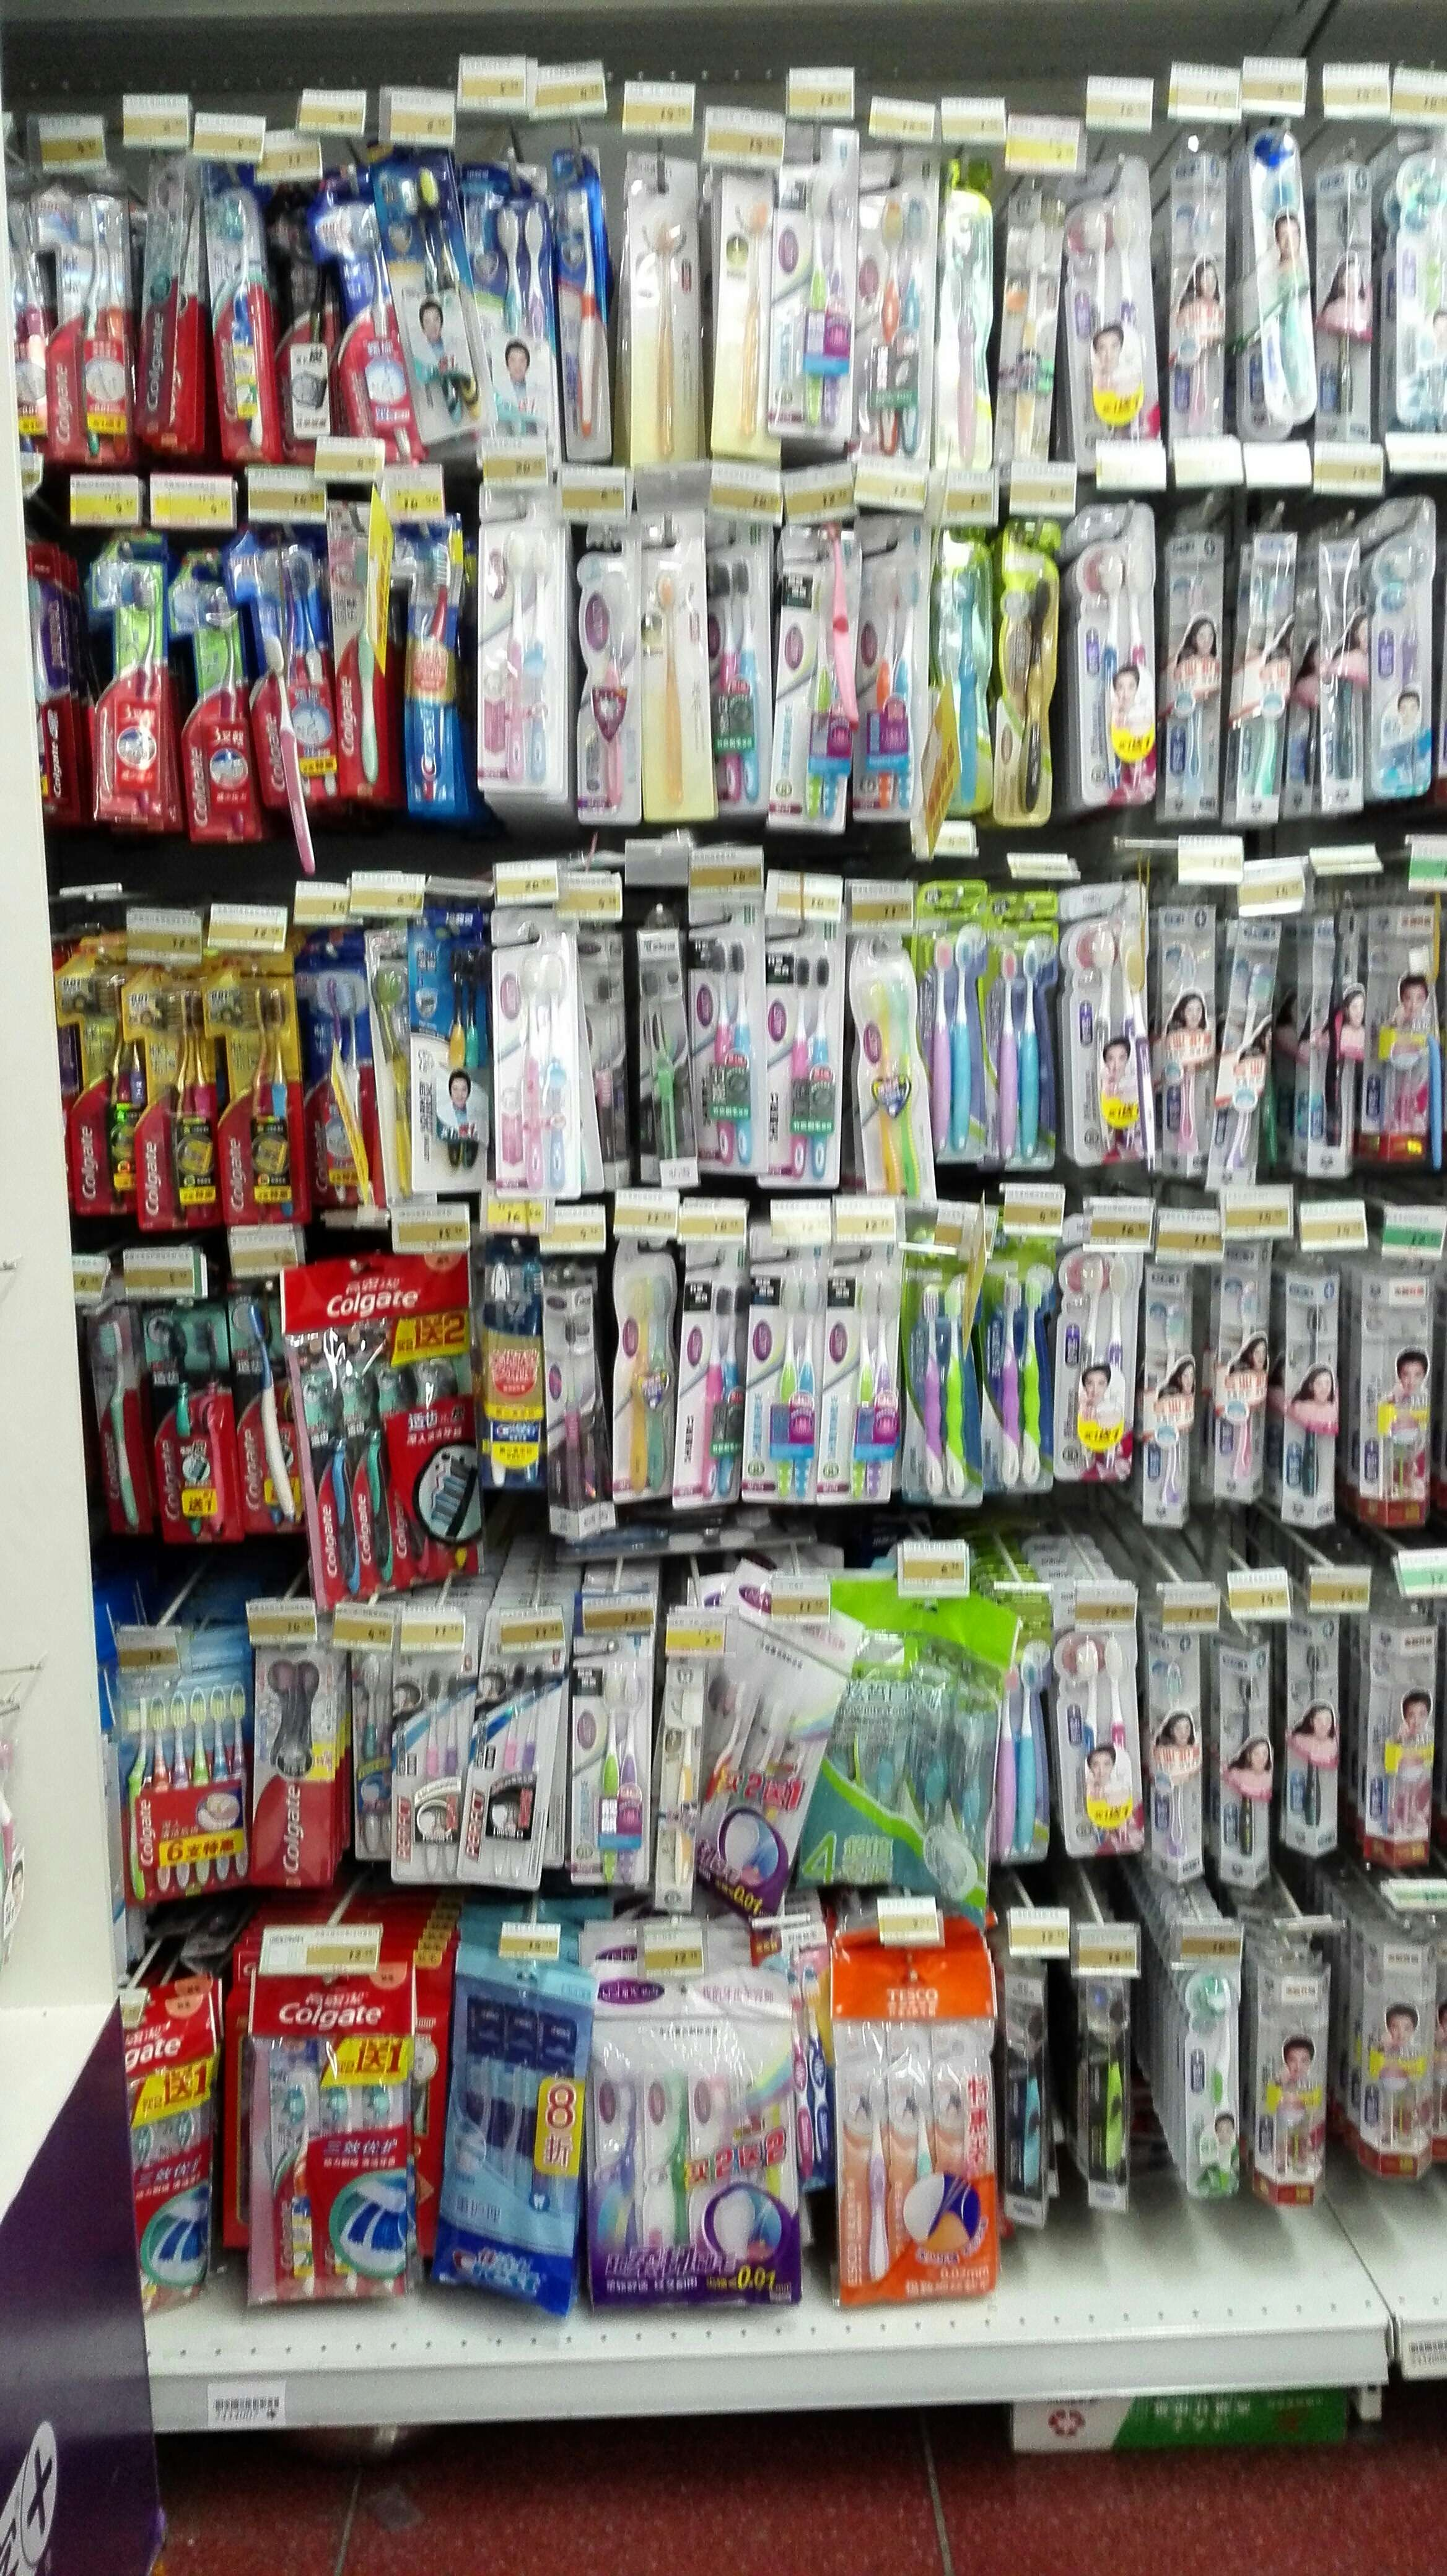product: (126, 1985, 209, 2304), (103, 541, 179, 828), (1254, 1959, 1332, 2212), (1007, 2399, 1353, 2454), (258, 1635, 333, 1886), (333, 501, 393, 801), (1362, 1279, 1431, 1525), (1374, 1934, 1442, 2180), (1180, 159, 1238, 435), (1390, 152, 1447, 428), (207, 173, 262, 455), (23, 545, 78, 821), (189, 557, 242, 840), (336, 189, 393, 448), (1245, 541, 1297, 824), (651, 547, 704, 819), (1189, 1969, 1249, 2204), (1320, 541, 1371, 816), (943, 547, 998, 801), (1175, 522, 1221, 821), (1003, 212, 1058, 460), (639, 195, 690, 458), (582, 543, 632, 810), (1318, 166, 1364, 449), (1284, 1267, 1334, 1529), (1007, 541, 1054, 810), (1286, 1617, 1341, 1851), (945, 191, 989, 471), (246, 1283, 295, 1530), (1081, 1969, 1132, 2208), (1256, 147, 1304, 402), (941, 2045, 996, 2266), (94, 1311, 147, 1536), (311, 1359, 361, 1598), (559, 179, 603, 441), (1224, 1265, 1272, 1506), (1014, 1987, 1060, 2236), (279, 2051, 327, 2288), (258, 630, 306, 865), (409, 531, 448, 816), (7, 198, 55, 428), (1374, 541, 1417, 800), (279, 189, 324, 437), (1152, 1267, 1194, 1523), (1215, 1644, 1261, 1877), (368, 964, 412, 1203), (1152, 1635, 1194, 1882), (481, 203, 525, 437), (723, 186, 764, 437), (432, 1315, 472, 1566), (1164, 931, 1206, 1166), (1076, 202, 1116, 442), (387, 1327, 426, 1571), (145, 170, 180, 437), (1224, 954, 1265, 1182), (1406, 939, 1447, 1166), (853, 2070, 895, 2284), (402, 170, 437, 412), (686, 2066, 732, 2252), (639, 955, 678, 1175), (856, 978, 895, 1194), (101, 195, 133, 453), (368, 2042, 405, 2263), (900, 2054, 939, 2263), (600, 2063, 642, 2254), (752, 2059, 791, 2266), (662, 1663, 693, 1913), (97, 968, 131, 1200), (518, 1660, 554, 1879), (265, 982, 297, 1223), (1091, 550, 1123, 789), (1130, 945, 1162, 1177), (1321, 906, 1351, 1150), (69, 202, 97, 460), (644, 2059, 683, 2247), (440, 175, 472, 403), (502, 533, 531, 789), (525, 2072, 571, 2229), (525, 198, 555, 437), (163, 1320, 195, 1541), (518, 1253, 548, 1484), (327, 2045, 357, 2275), (232, 987, 262, 1215), (195, 1315, 226, 1529), (621, 1667, 651, 1888), (456, 2058, 494, 2236), (359, 1346, 387, 1580), (1019, 1642, 1049, 1858), (1076, 1645, 1107, 1849), (189, 984, 216, 1226), (902, 207, 929, 449), (808, 1959, 838, 2171), (1019, 934, 1047, 1157), (1076, 1249, 1104, 1470), (830, 525, 861, 722), (1088, 938, 1116, 1157), (157, 987, 184, 1219), (486, 1258, 513, 1488), (1120, 200, 1145, 446), (784, 950, 810, 1178), (872, 195, 895, 456), (352, 1642, 380, 1854), (704, 943, 731, 1166), (541, 950, 566, 1187), (1021, 1270, 1047, 1491), (925, 938, 952, 1159), (1125, 550, 1150, 786), (232, 1675, 260, 1879), (711, 1674, 746, 1836), (117, 1698, 145, 1900), (465, 943, 490, 1171), (943, 1281, 968, 1507), (953, 927, 978, 1154), (715, 556, 738, 798), (651, 1274, 676, 1499), (800, 1274, 824, 1499), (731, 938, 755, 1162), (446, 1670, 472, 1875), (955, 1695, 984, 1886), (994, 1270, 1019, 1488), (529, 531, 550, 784), (518, 952, 541, 1185), (800, 175, 821, 428), (343, 975, 366, 1207), (494, 1661, 518, 1875), (317, 975, 340, 1205), (310, 540, 331, 787), (872, 559, 893, 805), (416, 1663, 440, 1874), (897, 968, 920, 1192), (497, 2063, 525, 2243), (736, 557, 757, 798), (702, 1279, 725, 1497), (1111, 1635, 1134, 1849), (748, 1693, 784, 1831), (994, 950, 1017, 1162), (812, 950, 833, 1178), (578, 1306, 603, 1500), (828, 182, 847, 430), (594, 1674, 617, 1882), (897, 563, 916, 805), (731, 1277, 752, 1493), (844, 1674, 869, 1856), (881, 1277, 900, 1504), (925, 1663, 948, 1854), (1107, 1253, 1127, 1477), (808, 571, 826, 816), (149, 1691, 170, 1891), (630, 1277, 649, 1491), (1385, 964, 1408, 1145), (998, 1658, 1017, 1863), (211, 1675, 230, 1879), (559, 1311, 578, 1514), (444, 947, 462, 1162), (787, 1698, 815, 1833), (777, 1274, 792, 1500), (856, 1277, 872, 1504), (173, 1690, 191, 1890), (1406, 1654, 1426, 1833), (195, 1683, 211, 1884), (380, 1649, 394, 1852), (877, 1674, 895, 1833), (792, 1974, 807, 2166), (1387, 1654, 1401, 1835)
